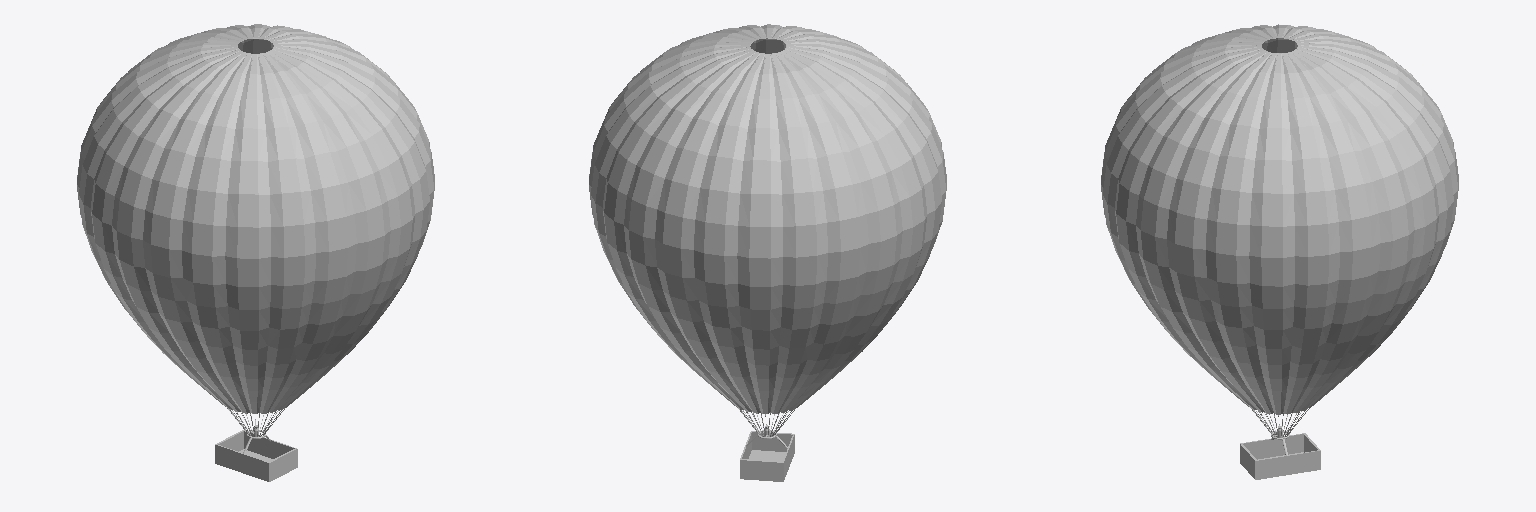
File: balloon-bak.obj
3 renders of one model, left to right at view 1: azimuth 30°, elevation 25°; view 2: azimuth 150°, elevation 25°; view 3: azimuth 270°, elevation 25°, orthographic.
Parts seen in each view (by area): view 1: red, black, yellow, offwhit1, white, white2, Box; view 2: white2, white, offwhit1, black, red, yellow, Box; view 3: white, yellow, red, white2, black, offwhit1, Box.
Part boxes in pixels (x1,y1,x2,y2): red: (92, 30, 425, 413); black: (83, 27, 420, 413); yellow: (80, 28, 430, 412); offwhit1: (79, 25, 429, 413); white: (77, 25, 434, 410); white2: (77, 24, 434, 411); Box: (215, 430, 297, 481); white2: (594, 26, 932, 413); white: (591, 25, 942, 413); offwhit1: (599, 30, 937, 413); black: (593, 28, 943, 412); red: (589, 26, 946, 410); yellow: (589, 24, 945, 411); Box: (740, 431, 794, 481); white: (1116, 30, 1449, 413); yellow: (1107, 28, 1444, 414); red: (1103, 25, 1453, 413); white2: (1105, 28, 1454, 412); black: (1101, 24, 1458, 412); offwhit1: (1101, 26, 1458, 410); Box: (1240, 433, 1320, 479).
Bounding box in the file's own units: 2.63 × 3.39 × 2.63.